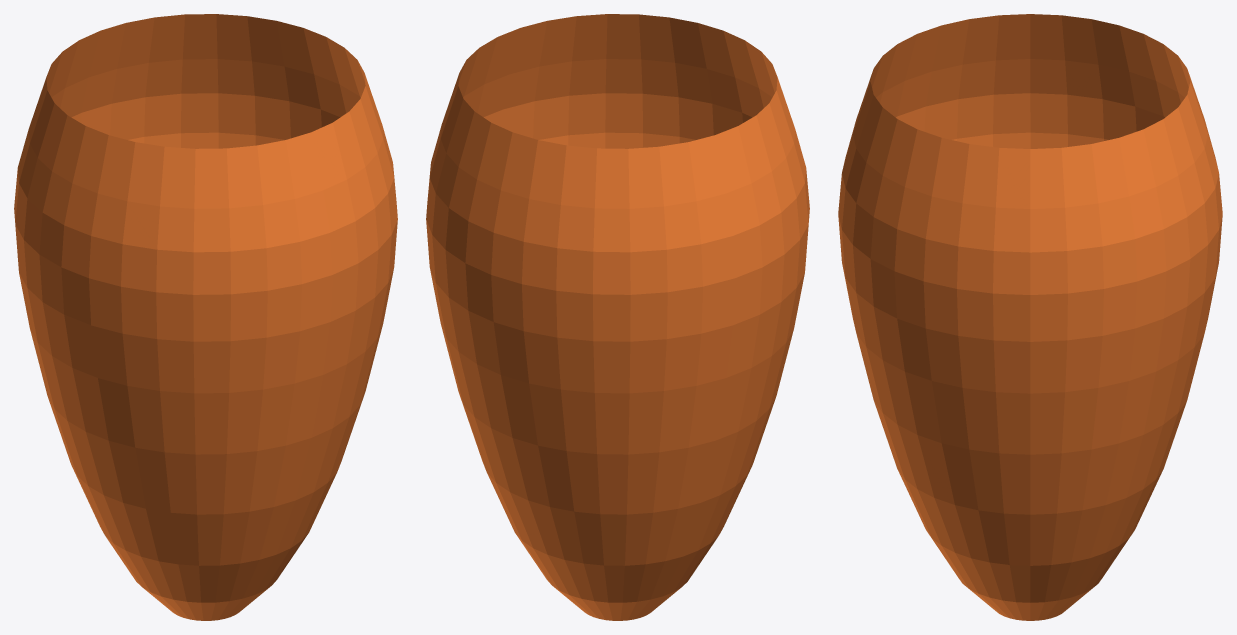
File: bitcoin-rocket-fire.glb
3 views of the same model, side by side, from view 1: azimuth 30°, elevation 25°; view 2: azimuth 150°, elevation 25°; view 3: azimuth 270°, elevation 25° (orthographic).
Parts seen in each view (by area): view 1: Fire; view 2: Fire; view 3: Fire.
Boxes of the visible parts, <box> form: Fire: <box>14,14,397,620</box>; Fire: <box>426,14,809,620</box>; Fire: <box>838,14,1222,620</box>.
Bounding box in the file's own units: 0.5972 × 0.9176 × 0.5972.
